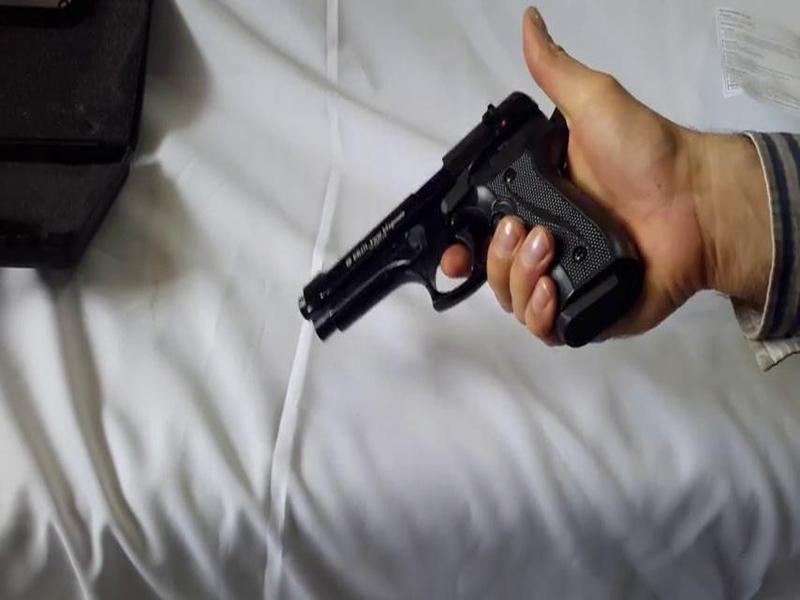Pistola: (280, 78, 663, 374)
